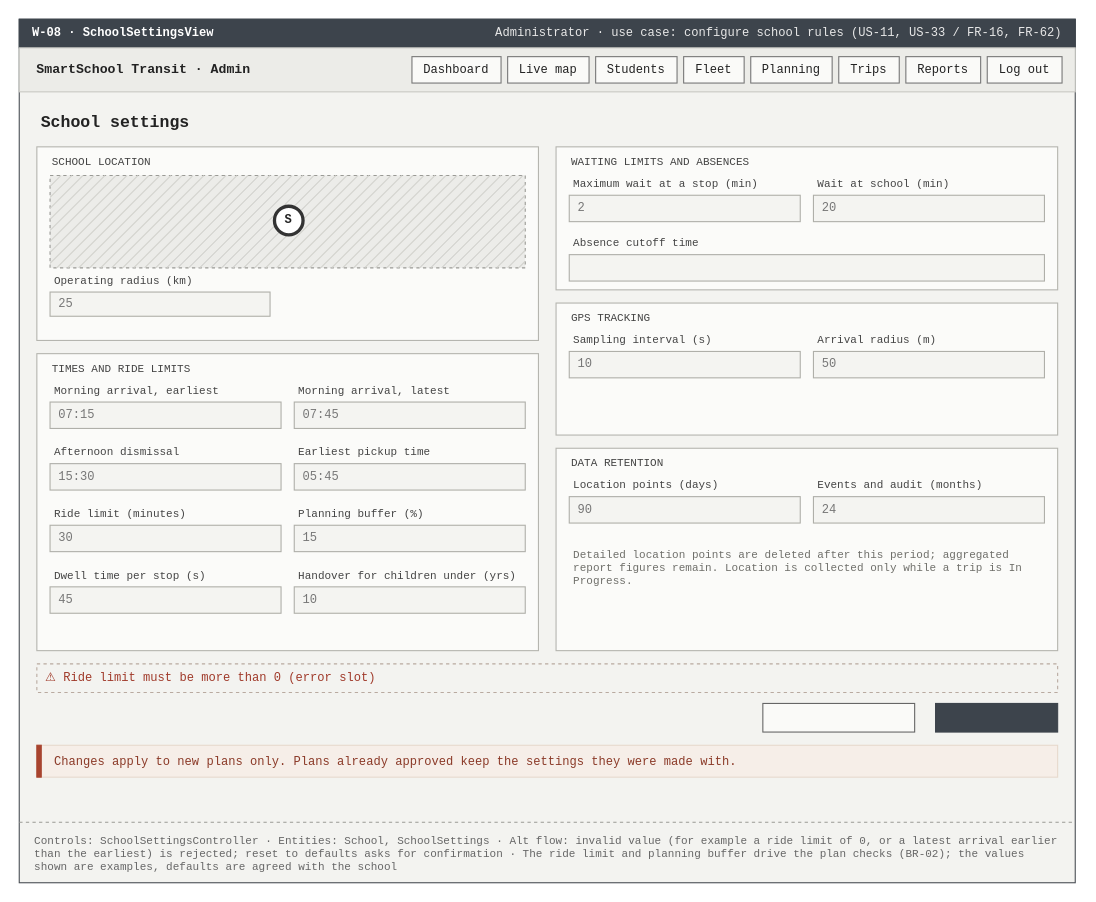
The diagram is 1096 pixels wide and 902 high, and some of its shapes have lost their labels. Here are the shapes that lost their labels. From the top down, the centre of each, then its label:
the point at 806,267: 18:00 the day before
the point at 838,717: Reset to defaults
the point at 996,717: Save settings
